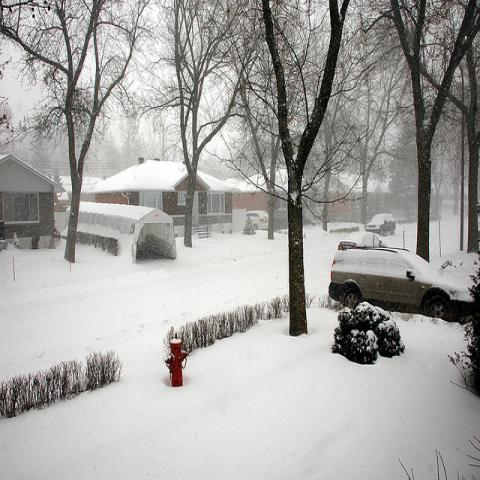car: (329, 240, 474, 320), (365, 214, 396, 236), (246, 210, 268, 230)
